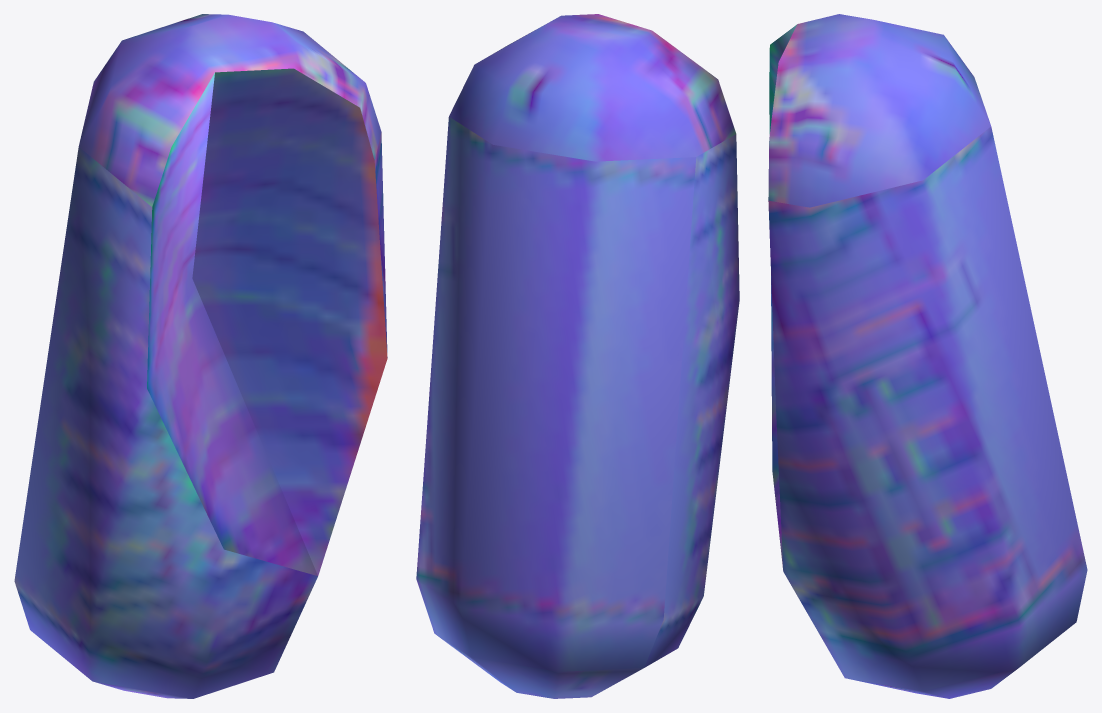
File: ship_debris_05_part_28.glb
3 renders of one model, left to right at view 1: azimuth 30°, elevation 25°; view 2: azimuth 150°, elevation 25°; view 3: azimuth 270°, elevation 25°, orthographic. The views are drawn at different scales.
Visible parts, largest first — view 1: ship_debris_05_part_28; view 2: ship_debris_05_part_28; view 3: ship_debris_05_part_28.
Boxes of the visible parts, left/top/right/bottom form: ship_debris_05_part_28: left=14, top=14, right=387, bottom=698; ship_debris_05_part_28: left=416, top=14, right=739, bottom=698; ship_debris_05_part_28: left=768, top=14, right=1087, bottom=698.
Size of the model in its own units: 0.7299 by 1.62 by 0.7125.
1 material, 1 textured.
